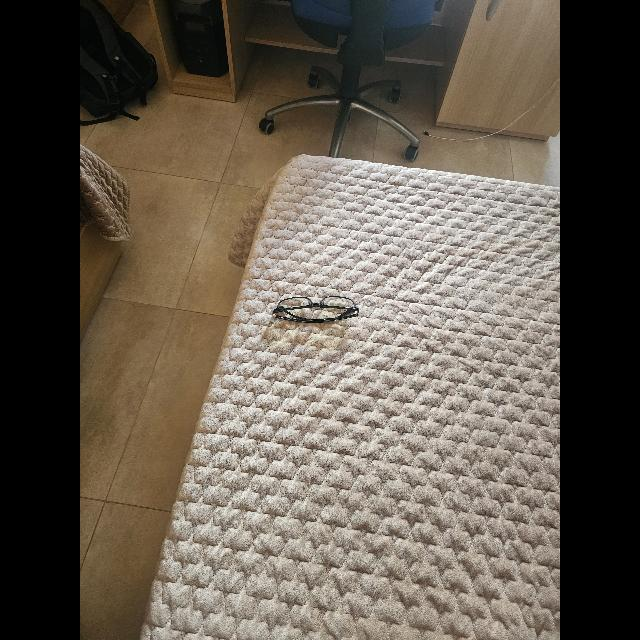glasses: (273, 296, 359, 324)
